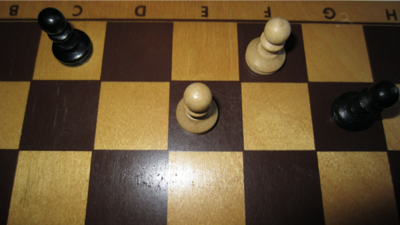black-pawn: (331, 80, 400, 133), (37, 7, 94, 67)
white-pawn: (245, 17, 292, 77), (176, 82, 220, 137)
